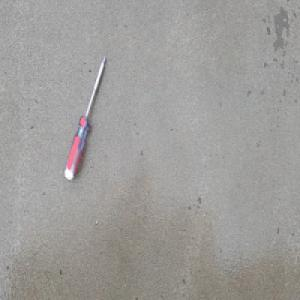Screwdriver: (62, 53, 106, 181)
